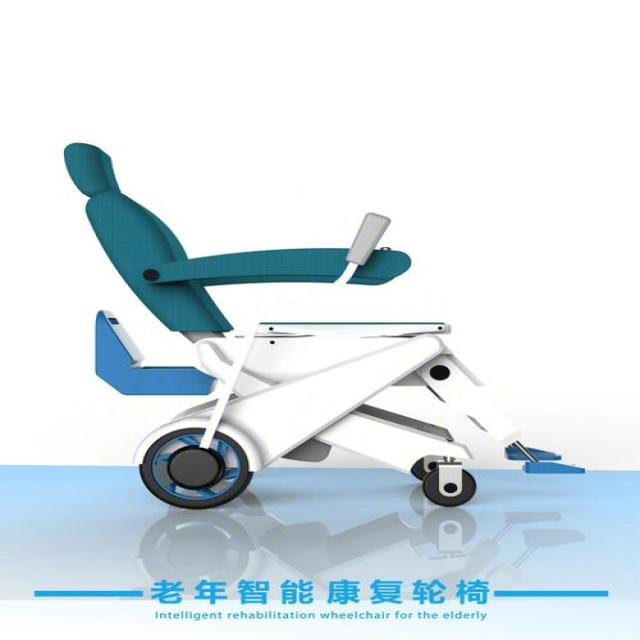wheelchairs: (58, 138, 598, 512)
